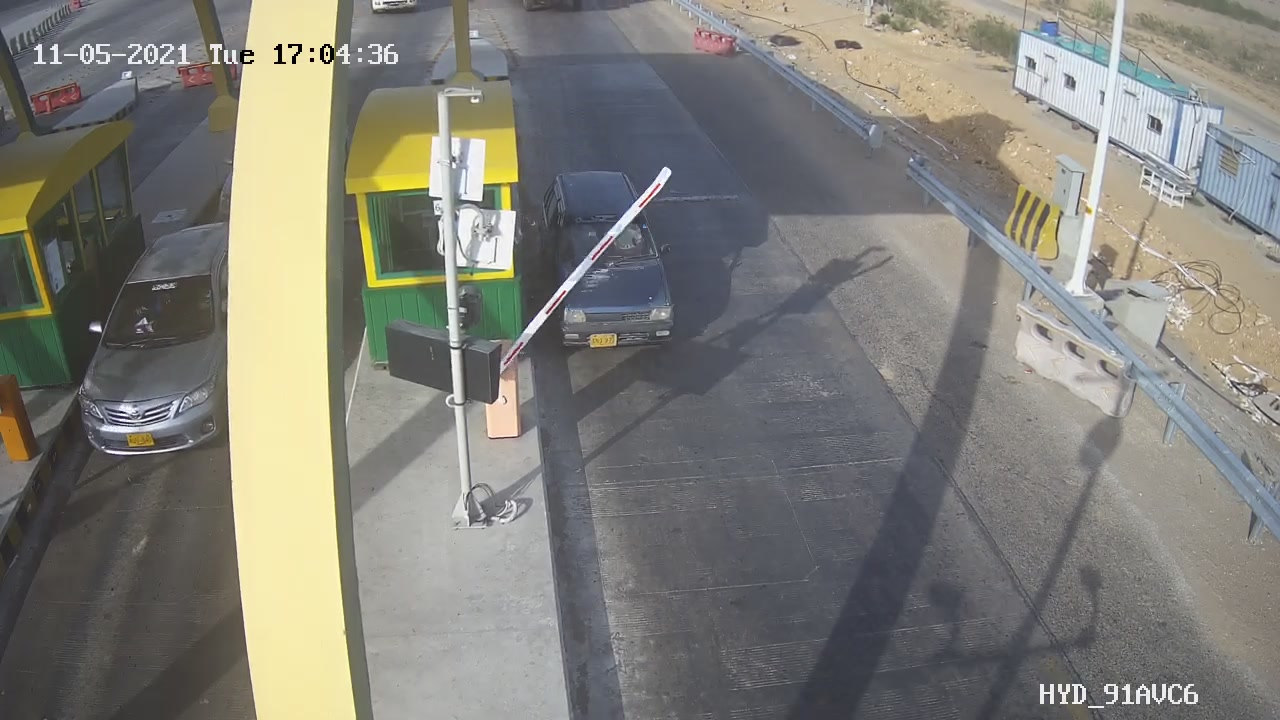F1: (520, 156, 695, 366)
